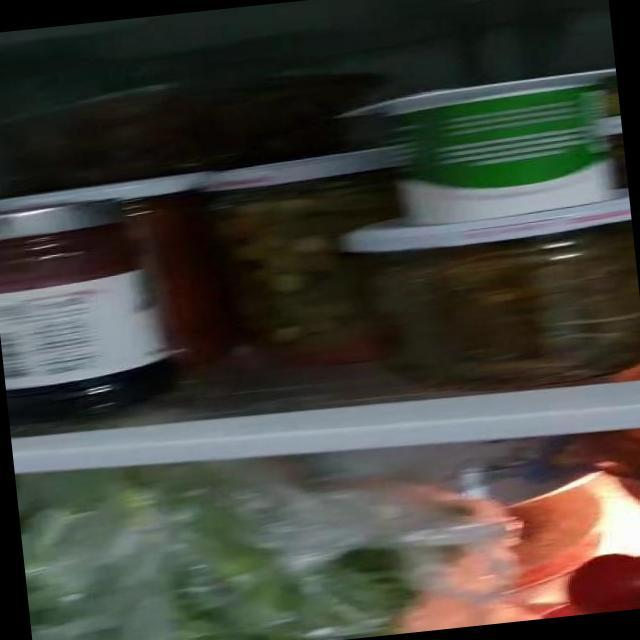Lechuga/Endivia: (16, 444, 419, 640)
Yogur: (346, 66, 624, 232)
tomato paste: (558, 543, 640, 612)
